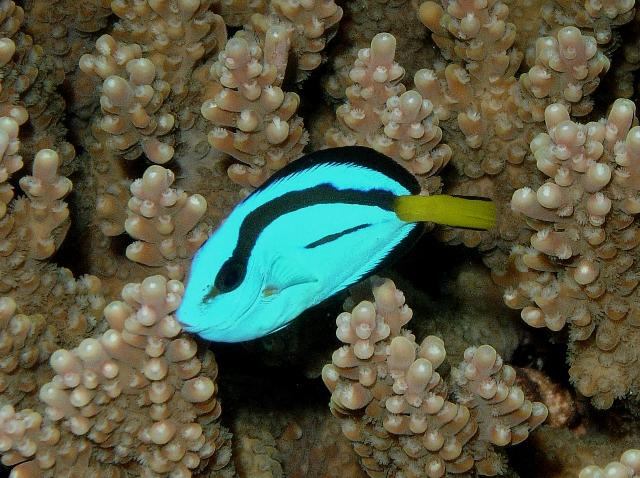Mulut: (163, 298, 214, 368)
Sirip Anal: (322, 218, 436, 310)
Sirip Dada: (246, 243, 324, 305)
Sirip Ekor: (408, 175, 504, 249)
Sirip Perut: (255, 313, 302, 347)
Sirip Punggung: (238, 136, 430, 202)
